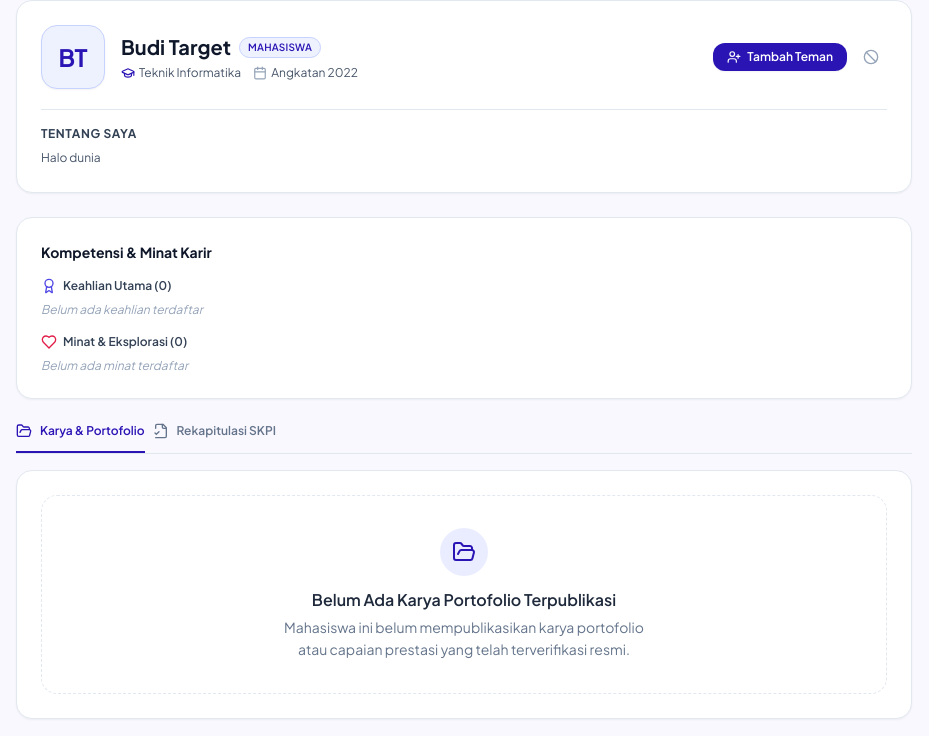
Test: M06 Friendship & Social Interactions Tests › ProfileDetailPage Friendship Actions › renders 'Tambah Teman' and sends friend request
The width and height of the screenshot is (929, 736).
Expected: the heading "Budi Target" is shown, x1=121 y1=33 x2=231 y2=61
Click the button "Tambah Teman" at {"x": 780, "y": 57}, box x1=713 y1=43 x2=847 y2=71
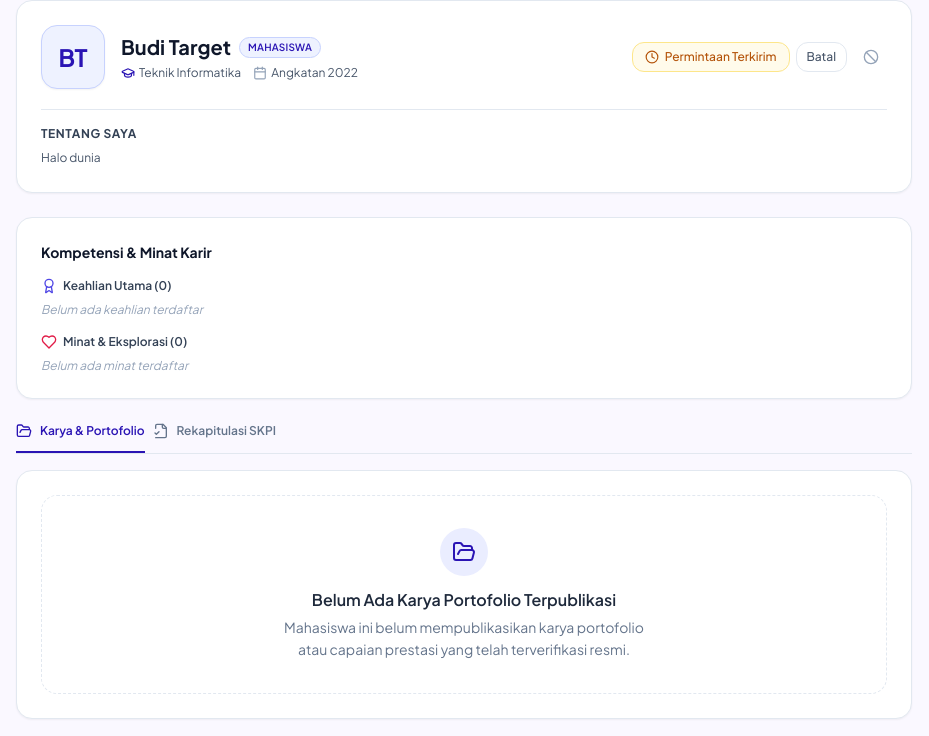
Result: the text "Permintaan Terkirim" is shown at x1=665 y1=49 x2=776 y2=65
